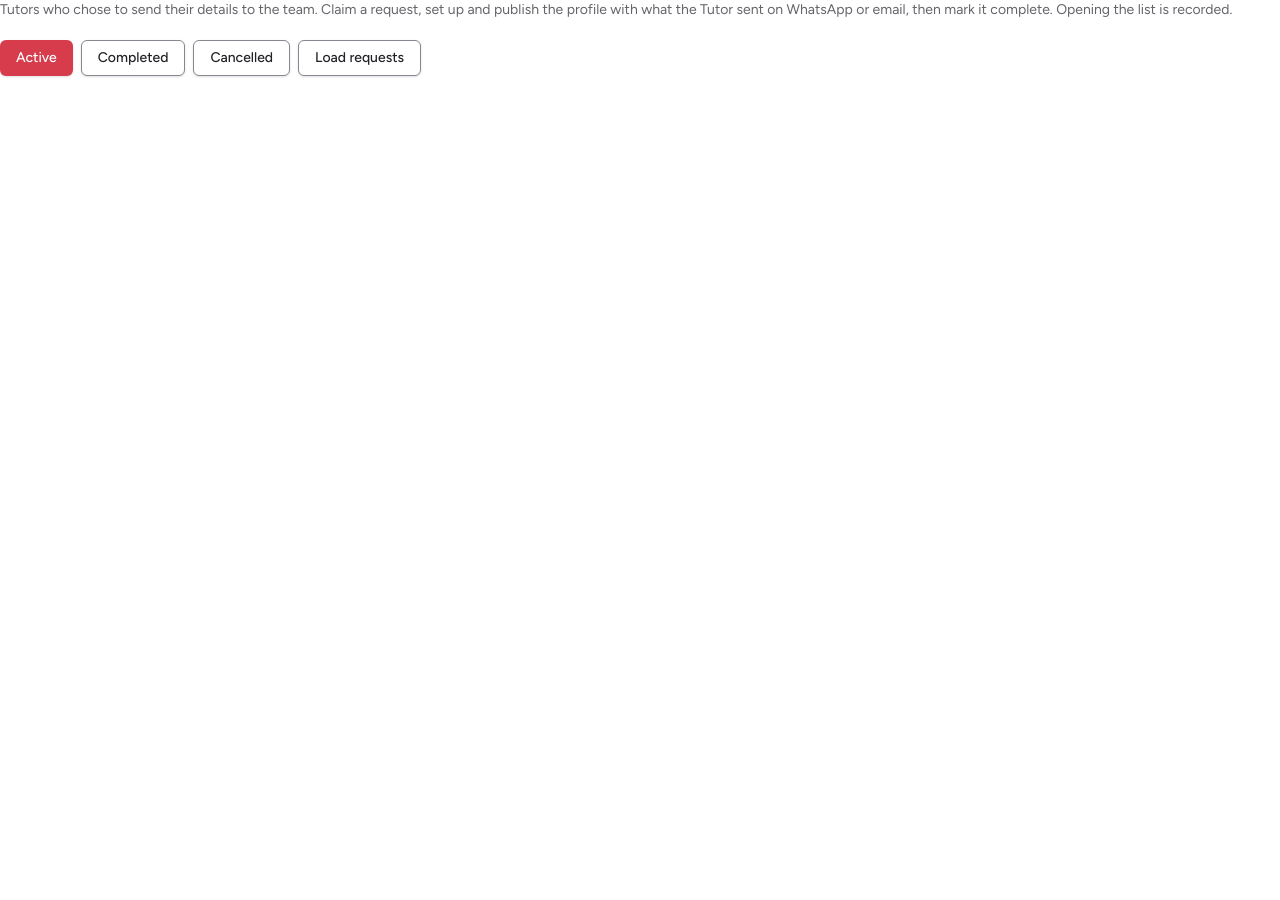
Test: Support staff claim a request and open the Tutor's own wizard acting for that Tutor
Click the button "Load requests".
click(360, 58)  # box [298,40,421,76]
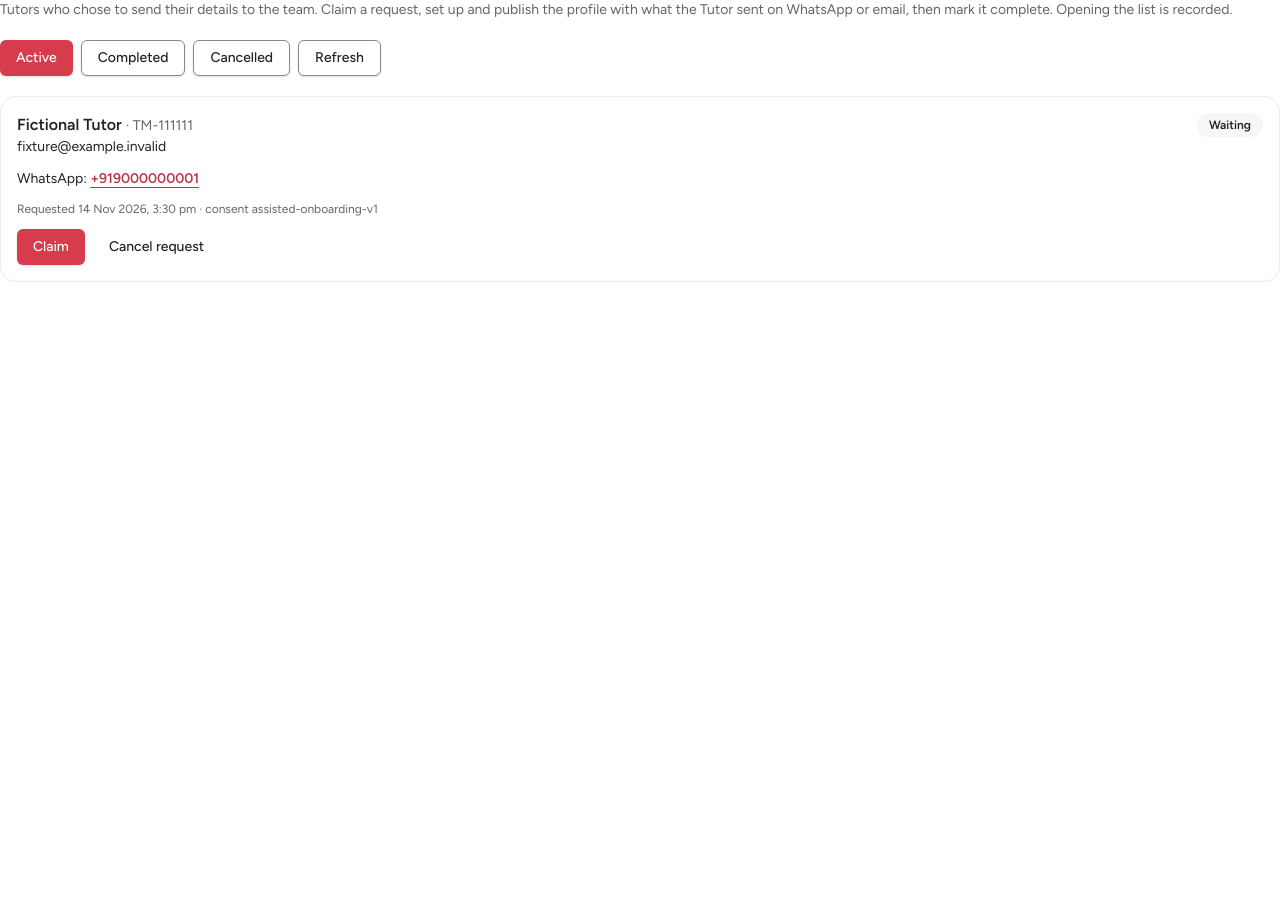
Click the button "Claim".
click(51, 247)  # box [17,229,85,265]
(page scrolled)
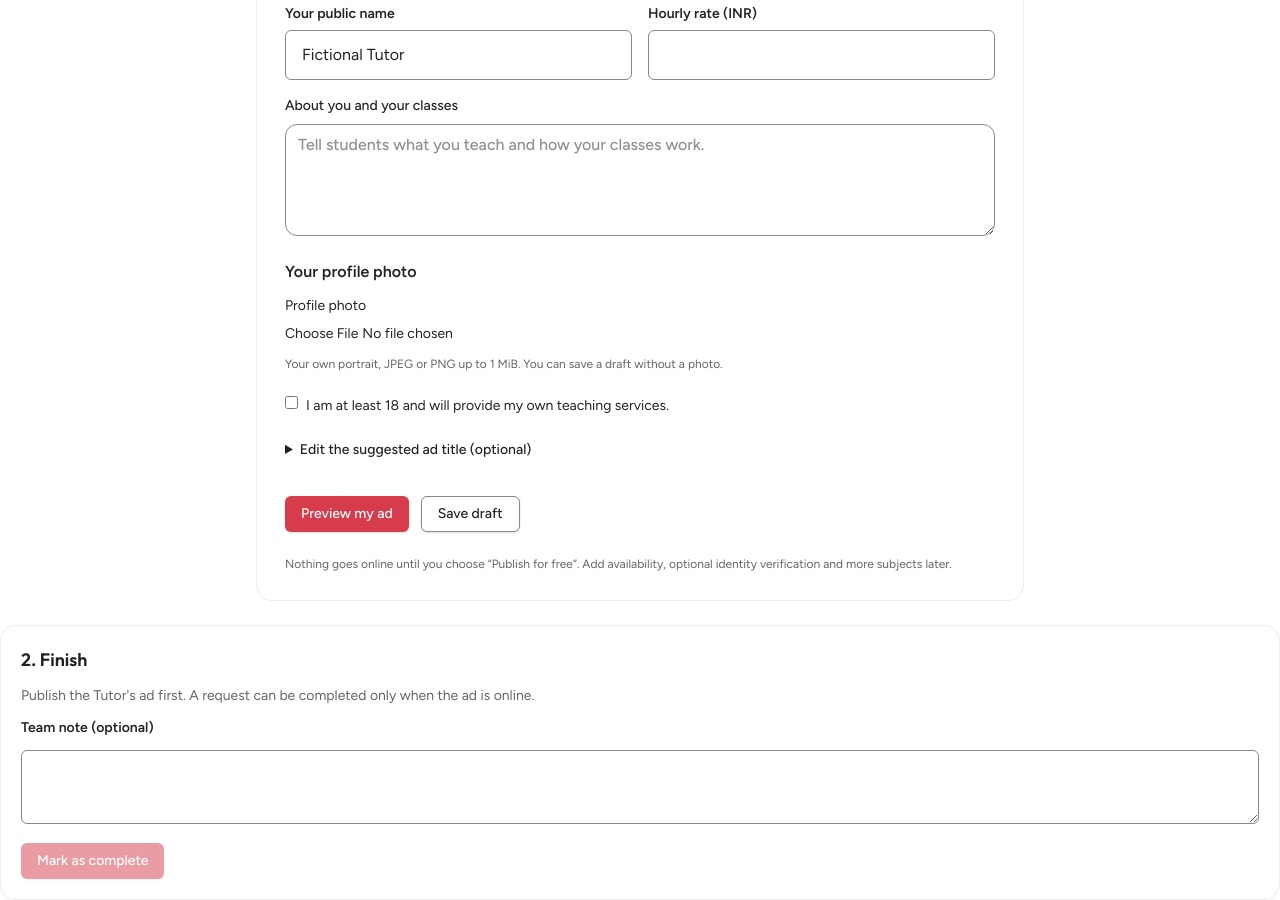
Result: the text "Publish the Tutor's ad first" is shown at [21,686,534,704]
Result: the button "Mark as complete" is disabled at [21,842,164,878]
